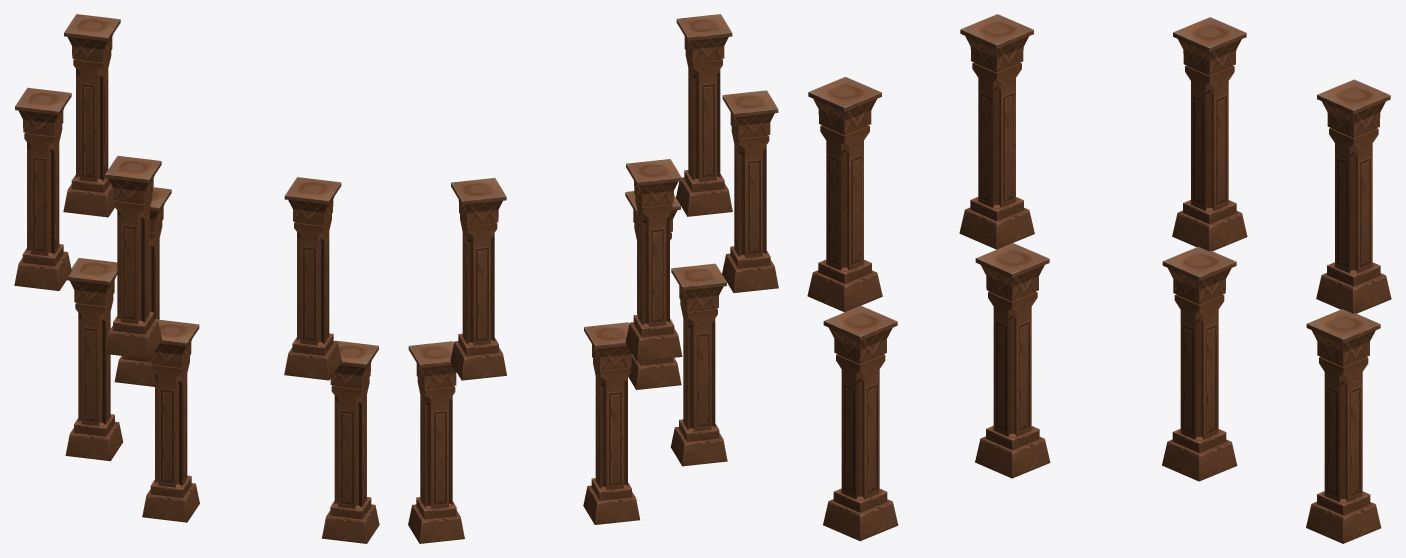
The model's file is Area_01_2.fbx.
3 views of the same model, side by side, from view 1: azimuth 30°, elevation 25°; view 2: azimuth 150°, elevation 25°; view 3: azimuth 270°, elevation 25° (orthographic). The views are drawn at different scales.
Parts seen in each view (by area): view 1: Area_01_2; view 2: Area_01_2; view 3: Area_01_2.
Part boxes in pixels (box(x1,y1,x2,y2)): Area_01_2: box(14, 14, 379, 543); Area_01_2: box(408, 14, 778, 543); Area_01_2: box(807, 14, 1391, 543).
Size of the model in its own units: 1484 by 2316 by 3003.
